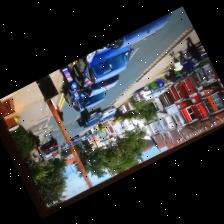person: (187, 36, 201, 61), (170, 50, 182, 72), (51, 99, 63, 120), (29, 130, 40, 146), (44, 131, 56, 144)
